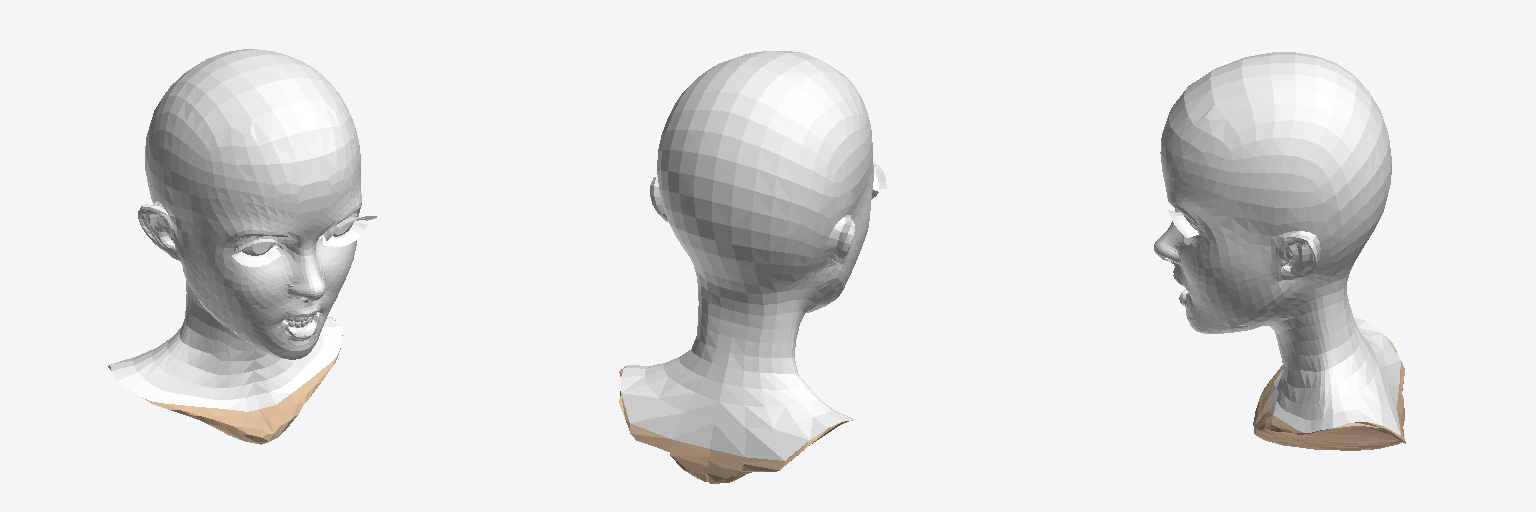
File: U_SINGLE_WIDE.obj
3 views of the same model, side by side, from view 1: azimuth 30°, elevation 25°; view 2: azimuth 150°, elevation 25°; view 3: azimuth 270°, elevation 25° (orthographic).
Visible parts, largest first — view 1: Body, Eyelashes; view 2: Body; view 3: Body.
Part boxes in pixels (x1,y1,x2,y2): Body: (110,49,361,411); Eyelashes: (230,216,376,266); Body: (621,51,873,460); Body: (1154,52,1400,434).
Size of the model in its own units: 23 by 37.41 by 22.09.